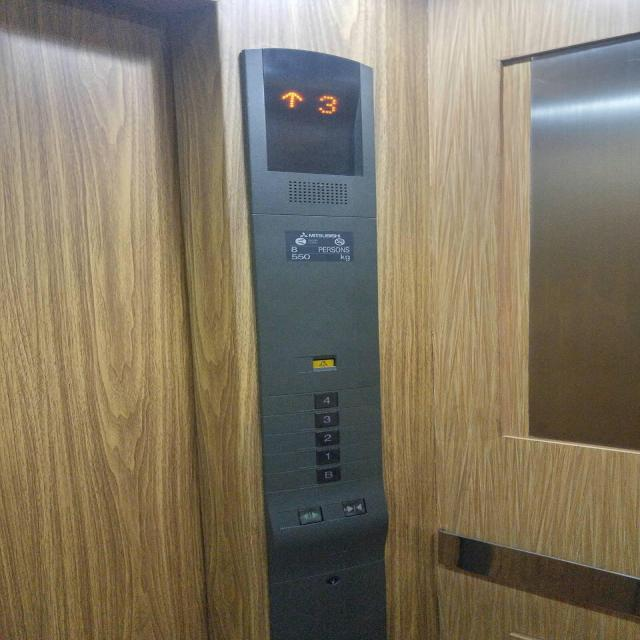1: (313, 446, 340, 466)
2: (312, 428, 340, 447)
3: (312, 409, 340, 428)
4: (312, 391, 338, 408)
B: (316, 464, 342, 484)
alarm: (310, 354, 336, 370)
close: (339, 497, 367, 518)
led: (255, 46, 364, 178)
open: (294, 504, 324, 526)
